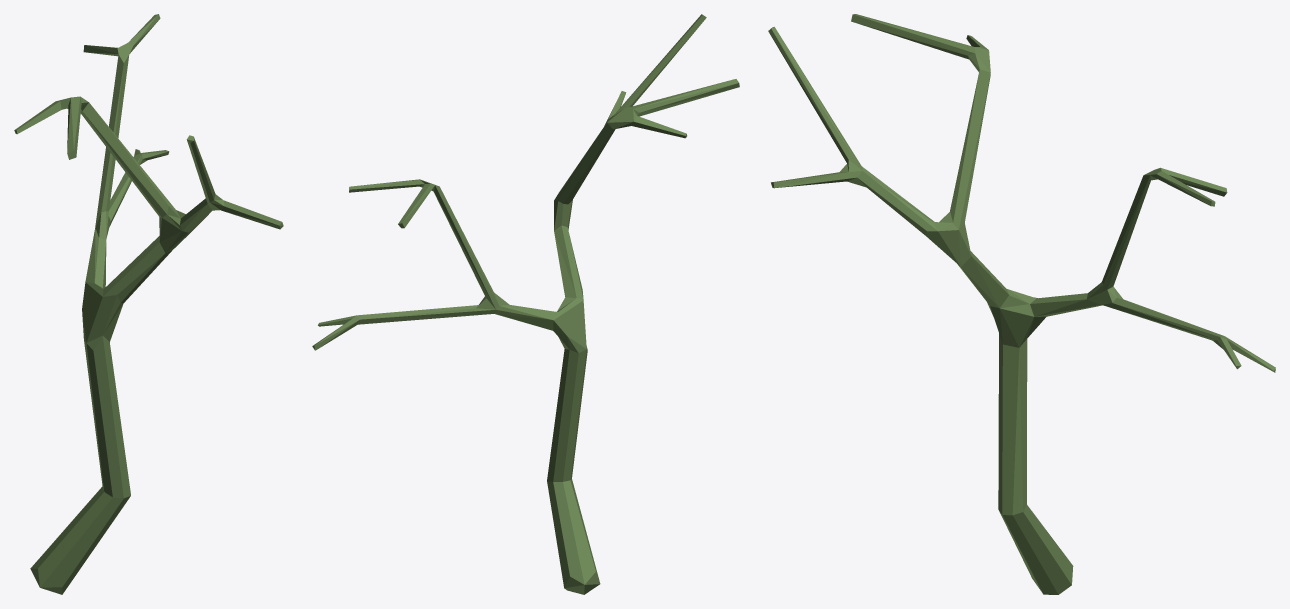
The model's file is plant06.fbx.
3 views of the same model, side by side, from view 1: azimuth 30°, elevation 25°; view 2: azimuth 150°, elevation 25°; view 3: azimuth 270°, elevation 25° (orthographic). The views are drawn at different scales.
Visible parts, largest first — view 1: Plane.052; view 2: Plane.052; view 3: Plane.052.
Boxes of the visible parts, bbox=[...] form: Plane.052: bbox=[14, 14, 283, 594]; Plane.052: bbox=[312, 14, 739, 594]; Plane.052: bbox=[768, 14, 1275, 594].
Size of the model in its own units: 0.1947 by 0.3582 by 0.2916.
